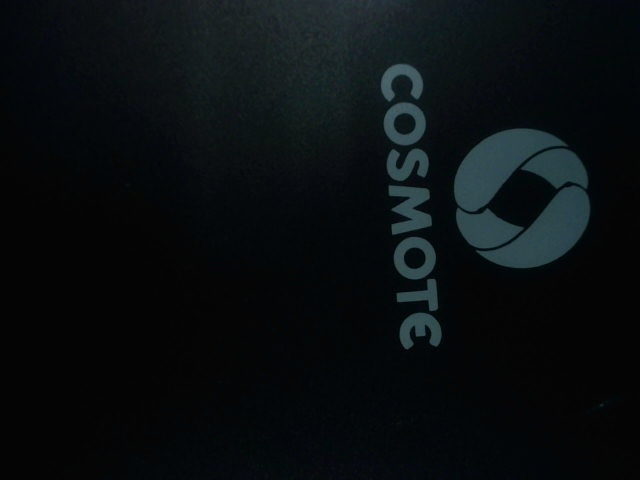AU_COSMOTE: (360, 60, 600, 360)
